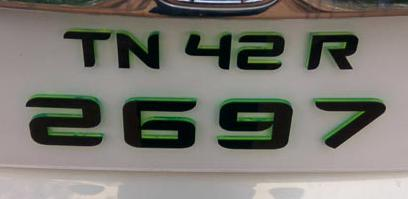2: (24, 89, 105, 147), (235, 30, 287, 73)
4: (181, 30, 233, 69)
6: (120, 96, 199, 150)
7: (311, 94, 386, 151)
9: (216, 96, 297, 150)
N: (114, 29, 162, 70)
R: (303, 29, 363, 71)
T: (62, 26, 111, 68)
